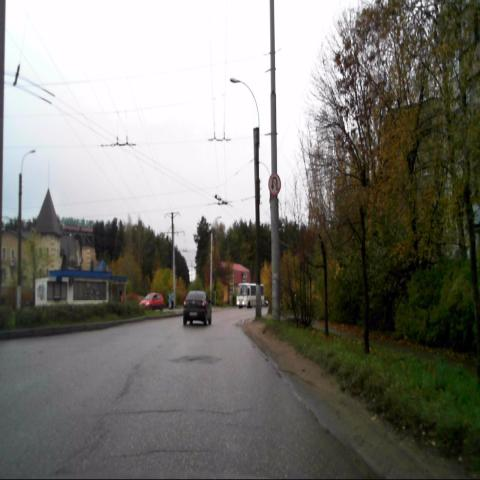3_19: (268, 174, 281, 196)
